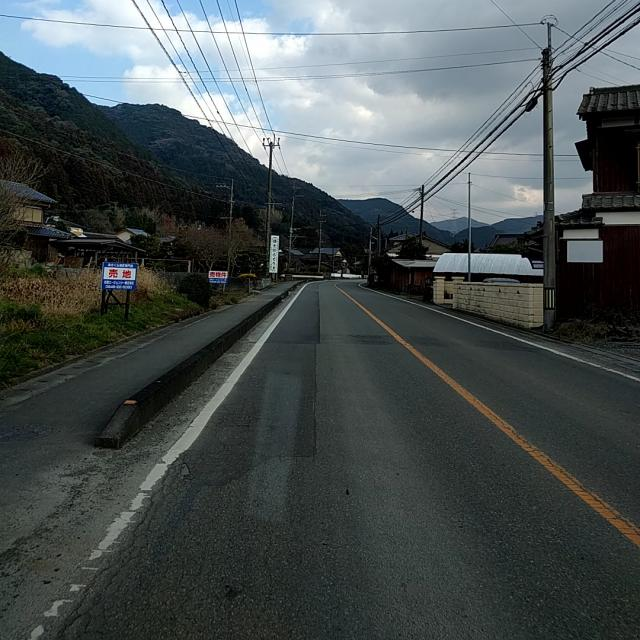pothole: (75, 467, 178, 636)
